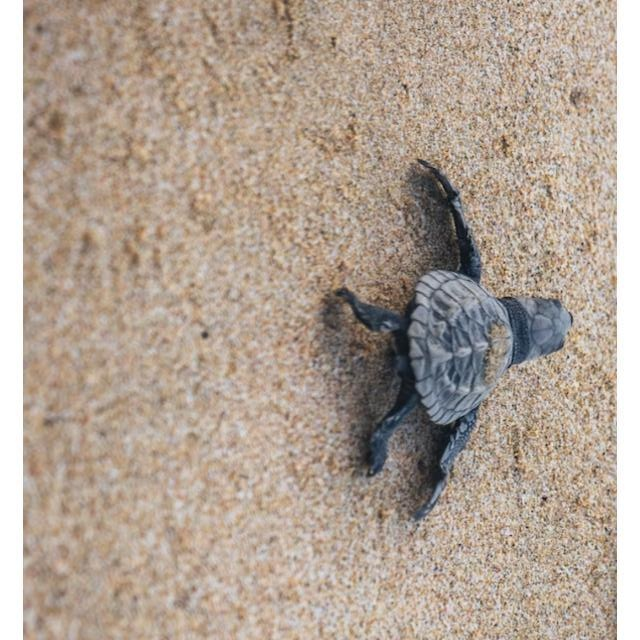turtle: (335, 157, 575, 522)
